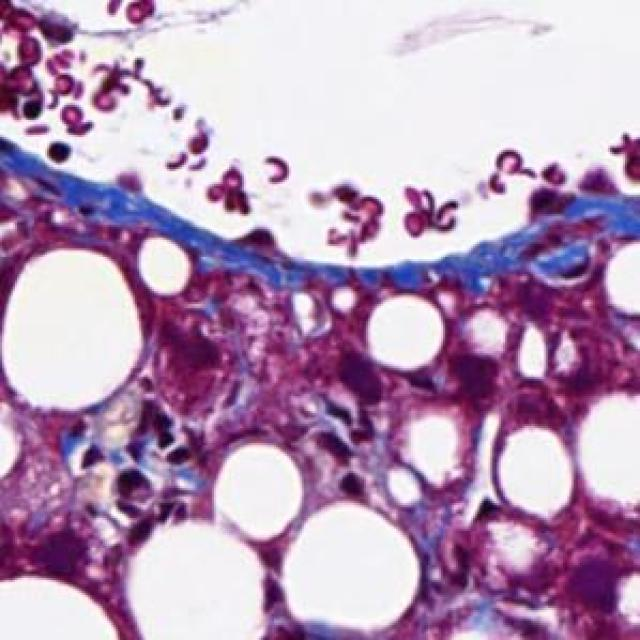inflammation: (73, 396, 203, 520), (308, 387, 392, 503)
